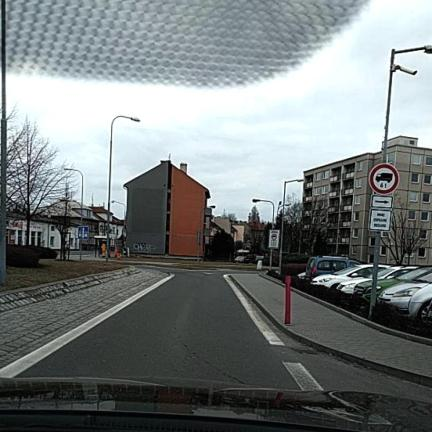Road: (20, 269, 431, 400)
